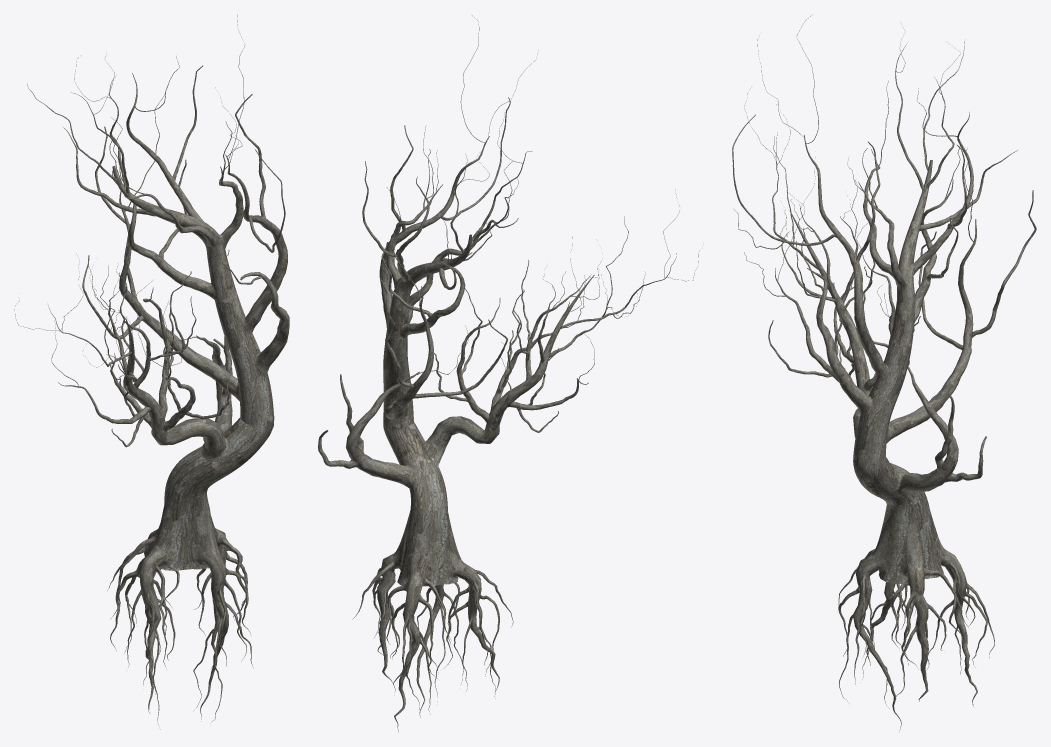
Rendered from Arbol3.fbx.
3 views of the same model, side by side, from view 1: azimuth 30°, elevation 25°; view 2: azimuth 150°, elevation 25°; view 3: azimuth 270°, elevation 25° (orthographic). The views are drawn at different scales.
Visible parts, largest first — view 1: Arbol3; view 2: Arbol3; view 3: Arbol3.
Part boxes in pixels (x1,y1,x2,y2): Arbol3: (14,14,289,729); Arbol3: (318,15,699,731); Arbol3: (732,15,1036,730).
Size of the model in its own units: 3.85 by 8.66 by 3.34.
